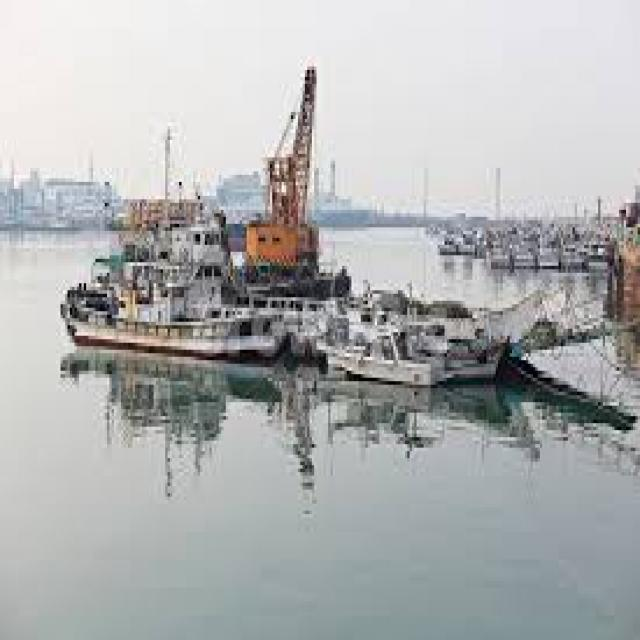Ship: (43, 243, 302, 383)
